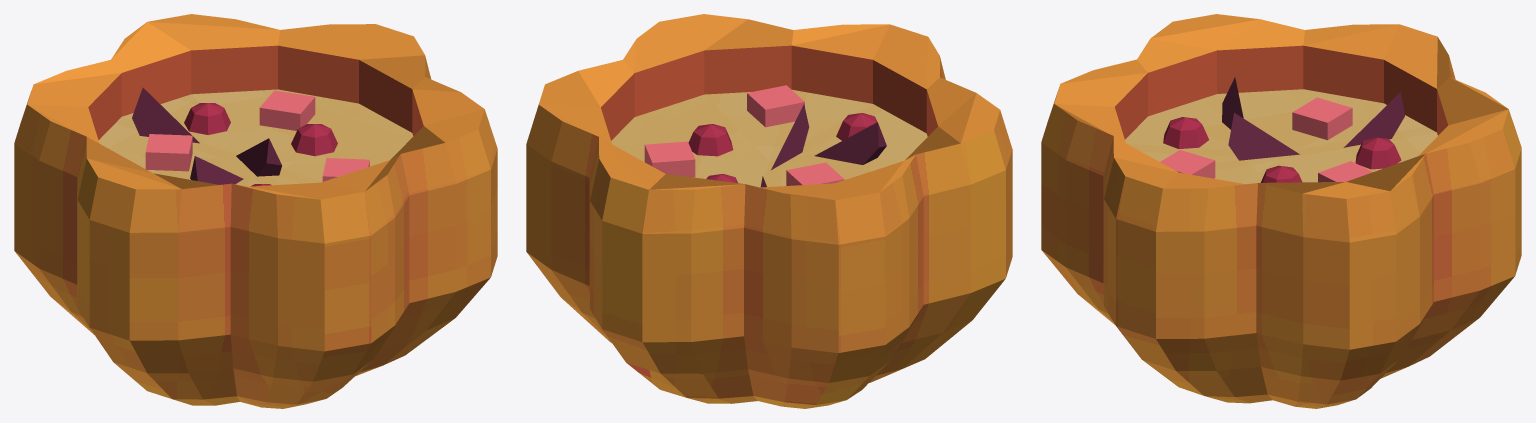
File: pumpkin_bowl.glb
3 renders of one model, left to right at view 1: azimuth 30°, elevation 25°; view 2: azimuth 150°, elevation 25°; view 3: azimuth 270°, elevation 25°, orthographic.
Parts seen in each view (by area): view 1: cylinder, sphere (×5), cuboid (×3); view 2: cylinder, sphere (×4), cuboid (×3); view 3: cylinder, sphere (×6), cuboid (×3).
Part boxes in pixels (box(x1,y1,x2,y2)): cylinder: box(14, 14, 497, 408); sphere (×5): box(132, 87, 337, 184); cuboid (×3): box(145, 90, 369, 181); cylinder: box(526, 14, 1012, 408); sphere (×4): box(688, 104, 886, 169); cuboid (×3): box(644, 85, 844, 185); cylinder: box(1041, 14, 1521, 408); sphere (×6): box(1163, 77, 1404, 182); cuboid (×3): box(1160, 97, 1372, 182).
Bounding box in the file's own units: 0.5993 × 0.389 × 0.6248.
Materials: 1 (1 with a texture image).
